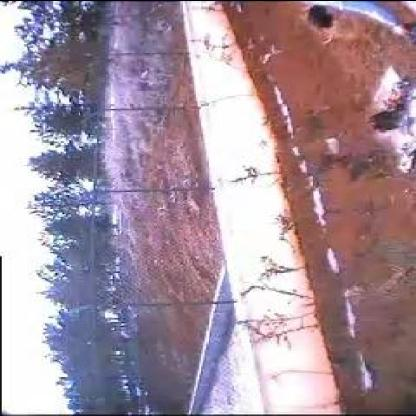-: (371, 112, 392, 130)
foggia-v2-map80-epoch100 - v1 4323: (385, 88, 409, 106)
